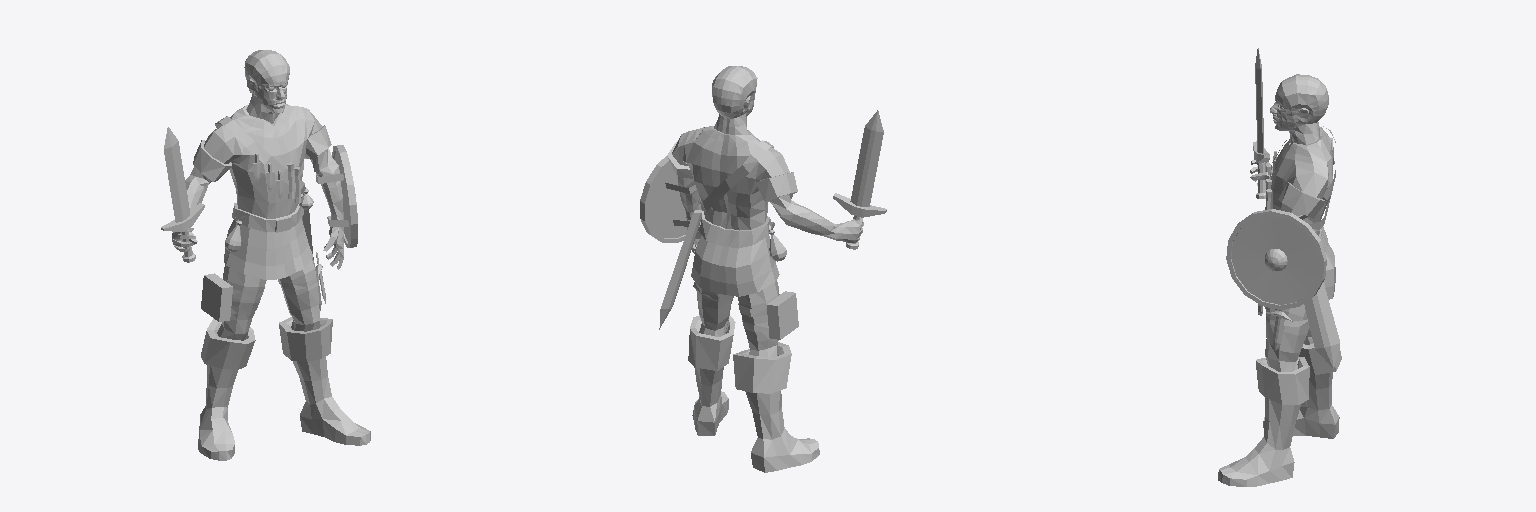
Rendered from char_anim_000394.obj.
3 views of the same model, side by side, from view 1: azimuth 30°, elevation 25°; view 2: azimuth 150°, elevation 25°; view 3: azimuth 270°, elevation 25° (orthographic).
Visible parts, largest first — view 1: Body.001, Sword, Shield, Funda.001_LegBag, Bandolera; view 2: Body.001, Shield, Sword, Funda.001_LegBag, Sheat, Bandolera; view 3: Body.001, Shield, Sheat, Sword, LegKnife.
Part boxes in pixels (bbox=[...]): Body.001: bbox=[172, 50, 370, 460]; Sword: bbox=[161, 127, 204, 262]; Shield: bbox=[316, 145, 357, 247]; Funda.001_LegBag: bbox=[201, 273, 264, 321]; Bandolera: bbox=[215, 116, 305, 193]; Body.001: bbox=[667, 66, 863, 472]; Shield: bbox=[640, 156, 701, 242]; Sword: bbox=[833, 110, 886, 249]; Funda.001_LegBag: bbox=[738, 291, 798, 339]; Sheat: bbox=[659, 210, 701, 329]; Bandolera: bbox=[700, 140, 773, 211]; Body.001: bbox=[1218, 74, 1341, 486]; Shield: bbox=[1226, 209, 1326, 309]; Sheat: bbox=[1304, 282, 1339, 368]; Sword: bbox=[1253, 48, 1269, 198]; LegKnife: bbox=[1266, 310, 1308, 350].
Bounding box in the file's own units: 1.34 × 2.29 × 0.6783.